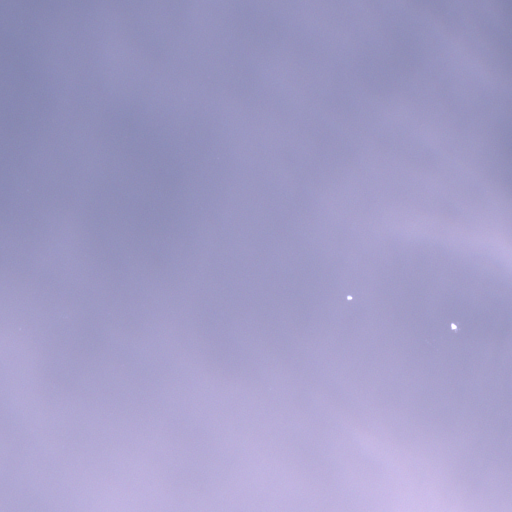Iceberg: (451, 323, 457, 329), (347, 295, 352, 299)
